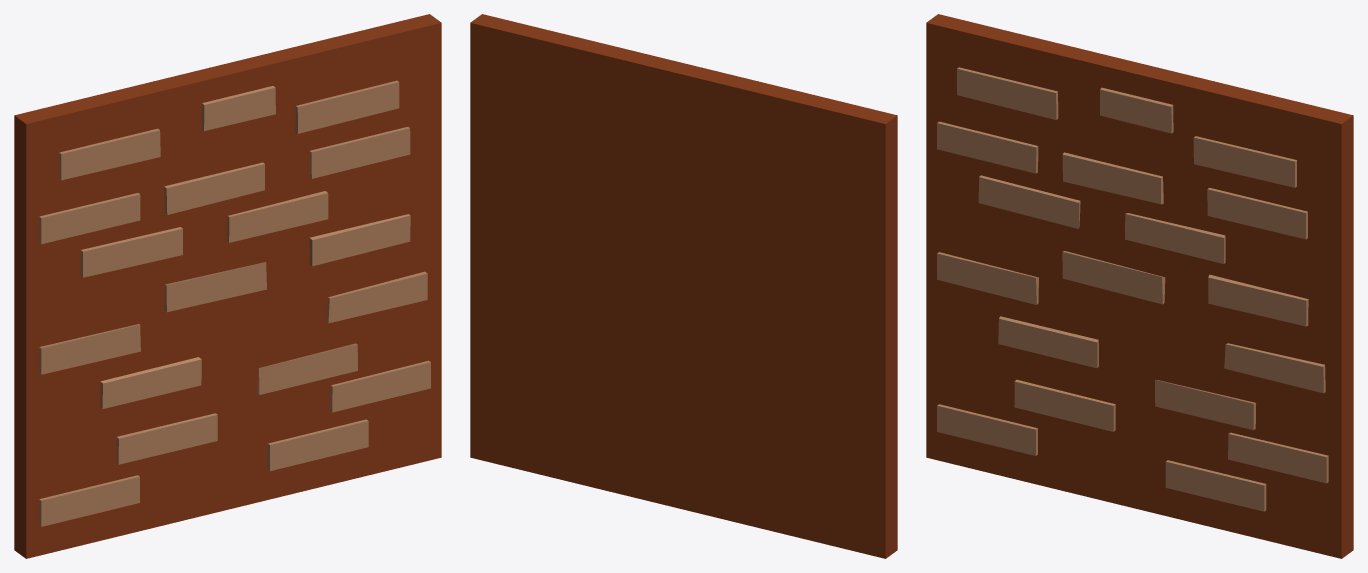
File: BrickV2.fbx
The picture shows the model from 3 angles, left to right: view 1: azimuth 30°, elevation 25°; view 2: azimuth 150°, elevation 25°; view 3: azimuth 330°, elevation 25°; orthographic projection.
Visible parts, largest first — view 1: BrickV2; view 2: BrickV2; view 3: BrickV2.
Boxes of the visible parts, x1,y1,x2,y2 form: BrickV2: (14,14,441,558); BrickV2: (470,14,897,558); BrickV2: (926,14,1353,558).
Bounding box in the file's own units: 200 × 200 × 11.75.
